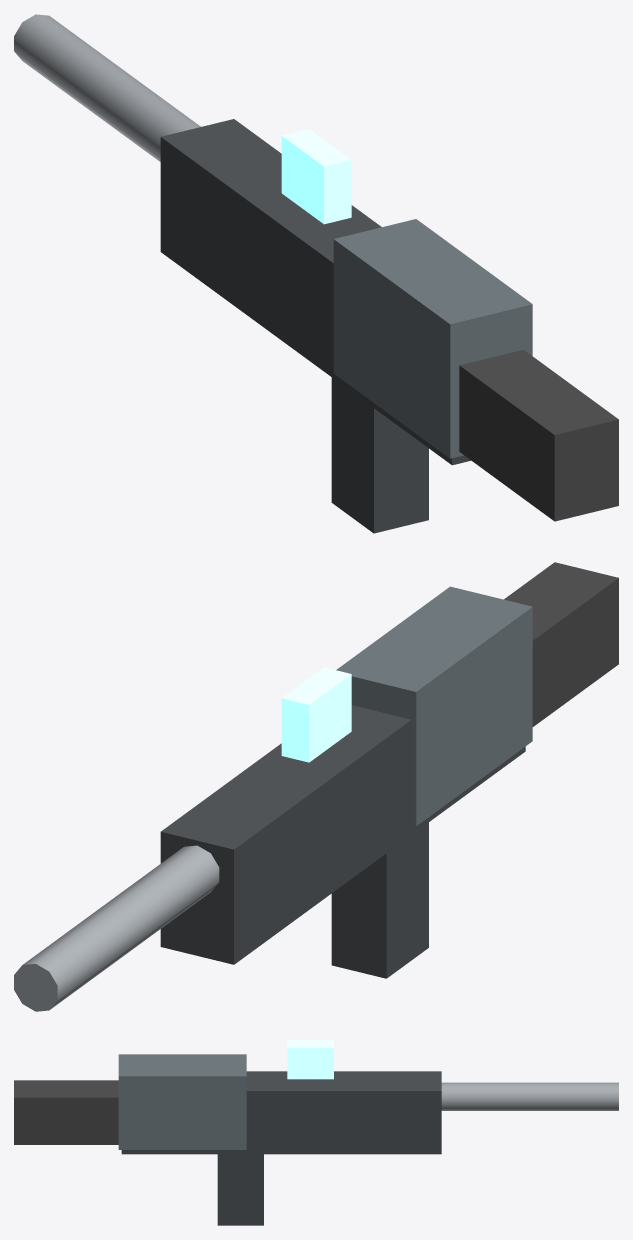
Rendered from pulse_rifle.glb.
3 views of the same model, one above another, from view 1: azimuth 30°, elevation 25°; view 2: azimuth 150°, elevation 25°; view 3: azimuth 270°, elevation 25° (orthographic). The views are drawn at different scales.
Parts seen in each view (by area): view 1: Receiver, Body, Stock, Mag, Barrel, Sight; view 2: Body, Receiver, Barrel, Stock, Mag, Sight; view 3: Body, Receiver, Stock, Barrel, Mag, Sight.
Boxes of the visible parts, x1,y1,x2,y2 form: Receiver: [333, 219, 532, 458]; Body: [160, 119, 470, 465]; Stock: [459, 349, 618, 521]; Mag: [331, 377, 428, 533]; Barrel: [14, 14, 200, 161]; Sight: [281, 129, 351, 224]; Body: [160, 705, 525, 964]; Receiver: [336, 586, 532, 826]; Barrel: [14, 845, 219, 1011]; Stock: [504, 562, 618, 726]; Mag: [331, 822, 428, 978]; Sight: [281, 667, 351, 762]; Body: [121, 1071, 441, 1154]; Receiver: [118, 1054, 246, 1149]; Stock: [14, 1080, 118, 1144]; Barrel: [441, 1082, 618, 1110]; Mag: [217, 1154, 263, 1225]; Sight: [287, 1040, 333, 1079].
Size of the model in its own units: 0.09 by 0.33 by 1.04.
